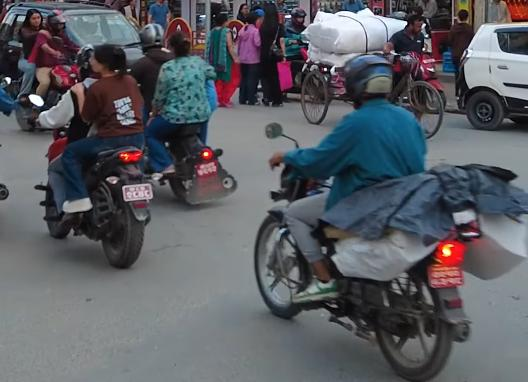bike: (250, 122, 474, 382), (26, 88, 166, 273)
